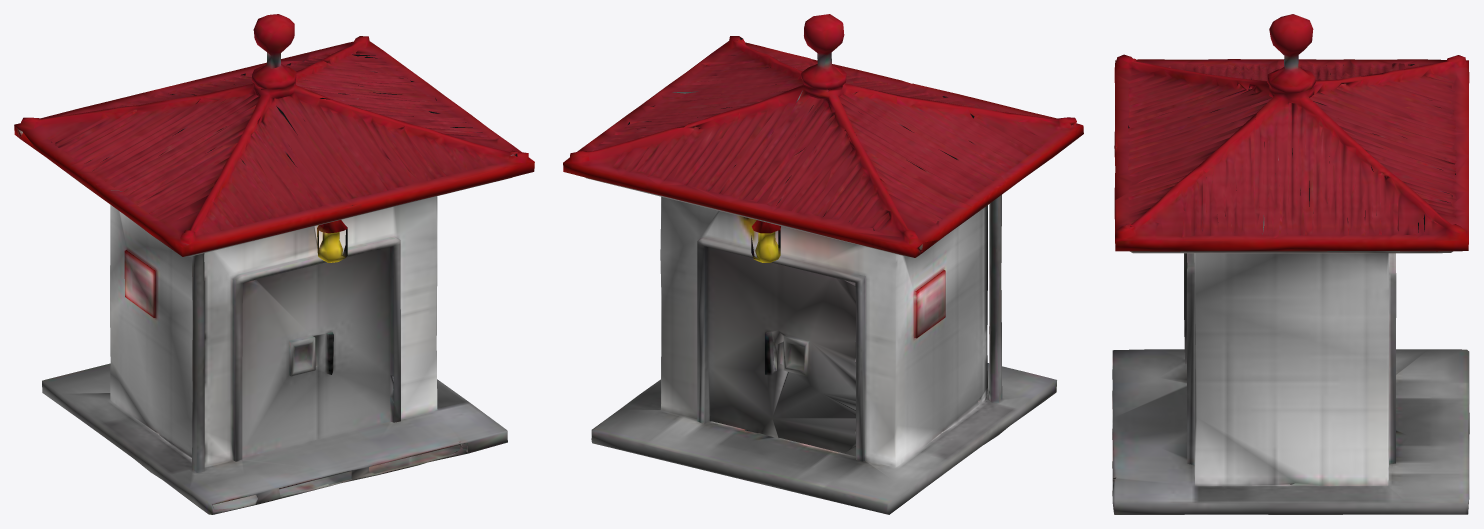
The model's file is koban.glb.
3 views of the same model, side by side, from view 1: azimuth 30°, elevation 25°; view 2: azimuth 150°, elevation 25°; view 3: azimuth 270°, elevation 25° (orthographic). The views are drawn at different scales.
Visible parts, largest first — view 1: koban; view 2: koban; view 3: koban.
Part boxes in pixels (x1=…): koban: x1=14, y1=14, x2=534, y2=514; koban: x1=563, y1=14, x2=1083, y2=514; koban: x1=1112, y1=14, x2=1469, y2=514.
Bounding box in the file's own units: 4.14 × 4.5 × 3.45.
1 material, 1 textured.
